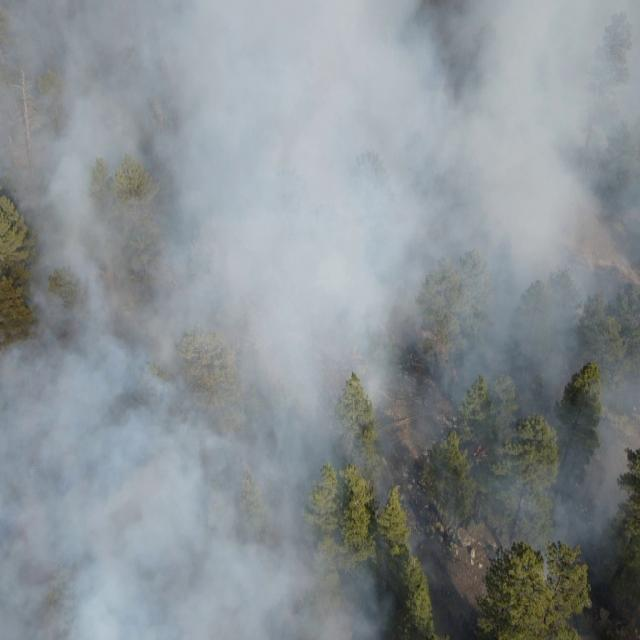fire: (467, 442, 495, 468)
smoke: (0, 0, 640, 340), (3, 345, 640, 599), (0, 600, 381, 640)
